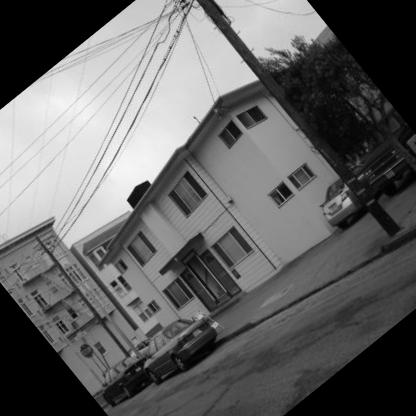car: (332, 94, 416, 199), (290, 162, 383, 253), (130, 301, 224, 390), (89, 340, 170, 416)
